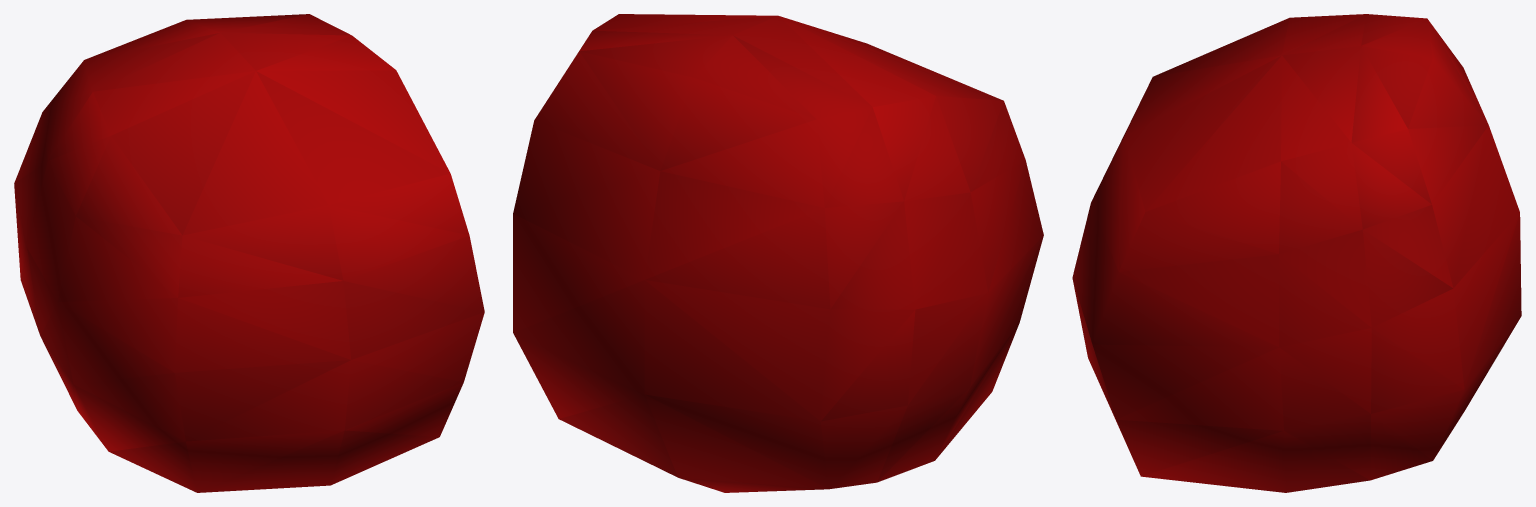
File: geology-pebbles-smallsandchunk_v6.fbx
3 views of the same model, side by side, from view 1: azimuth 30°, elevation 25°; view 2: azimuth 150°, elevation 25°; view 3: azimuth 270°, elevation 25° (orthographic). The views are drawn at different scales.
Visible parts, largest first — view 1: SmallSandChunk_v6; view 2: SmallSandChunk_v6; view 3: SmallSandChunk_v6.
Boxes of the visible parts, bbox=[...] form: SmallSandChunk_v6: bbox=[14, 14, 484, 492]; SmallSandChunk_v6: bbox=[513, 14, 1043, 492]; SmallSandChunk_v6: bbox=[1072, 14, 1521, 492].
Size of the model in its own units: 2.65 by 2.79 by 2.64.
